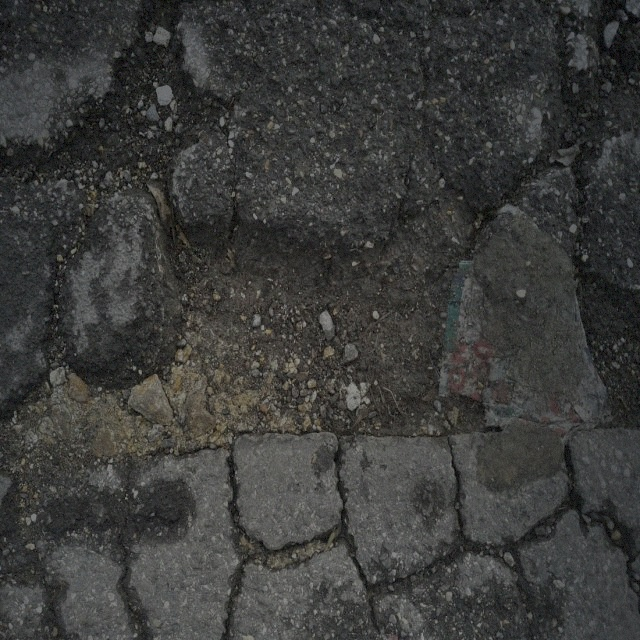pothole: (109, 179, 448, 476)
